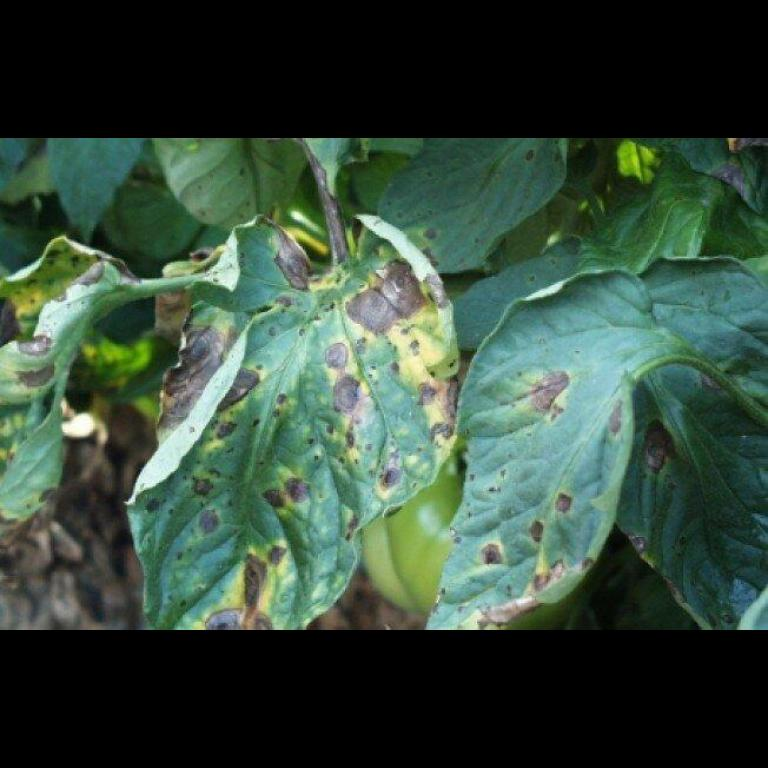blight: (329, 260, 435, 344)
